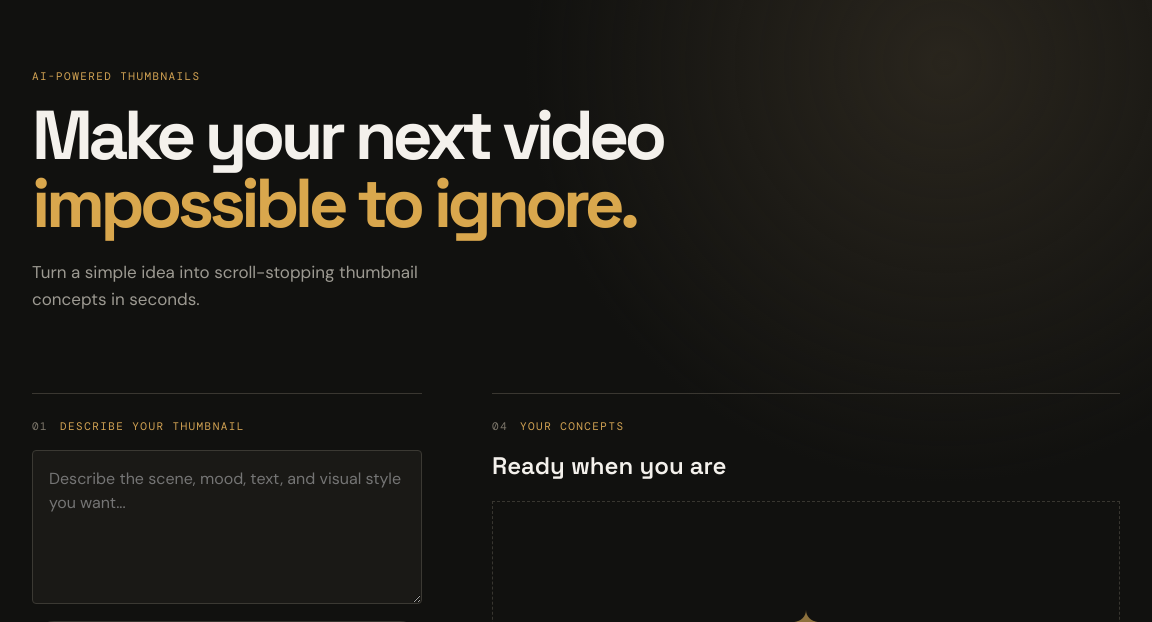
Scenario: thumbnail prompt form › enables generation after a prompt is entered
Type "A clear, engaging video thumbnail" into the text box with placeholder "Describe the scene".
click(227, 527); type("A clear, engaging video thumbnail")  # box [32, 450, 422, 604]
(page scrolled)
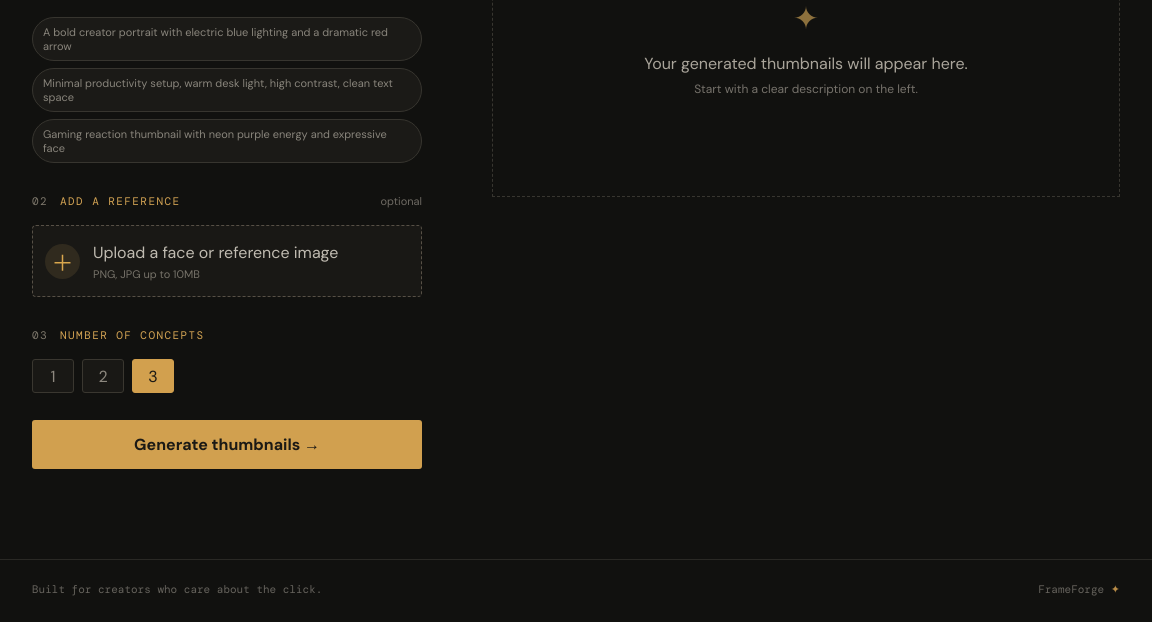
Now the button "Generate thumbnails →" is enabled, box [32, 420, 422, 469]
